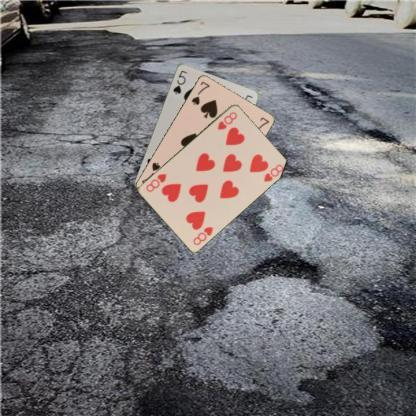5s: (171, 68, 188, 96)
7s: (189, 78, 211, 106)
8h: (190, 224, 214, 246), (215, 109, 238, 131)
